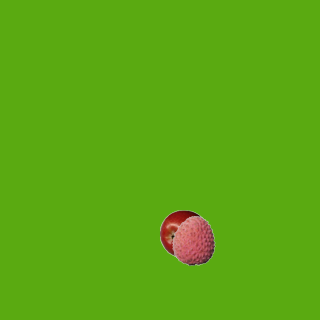Apple Braeburn: (159, 209, 209, 259)
Lychee: (168, 215, 218, 265)
